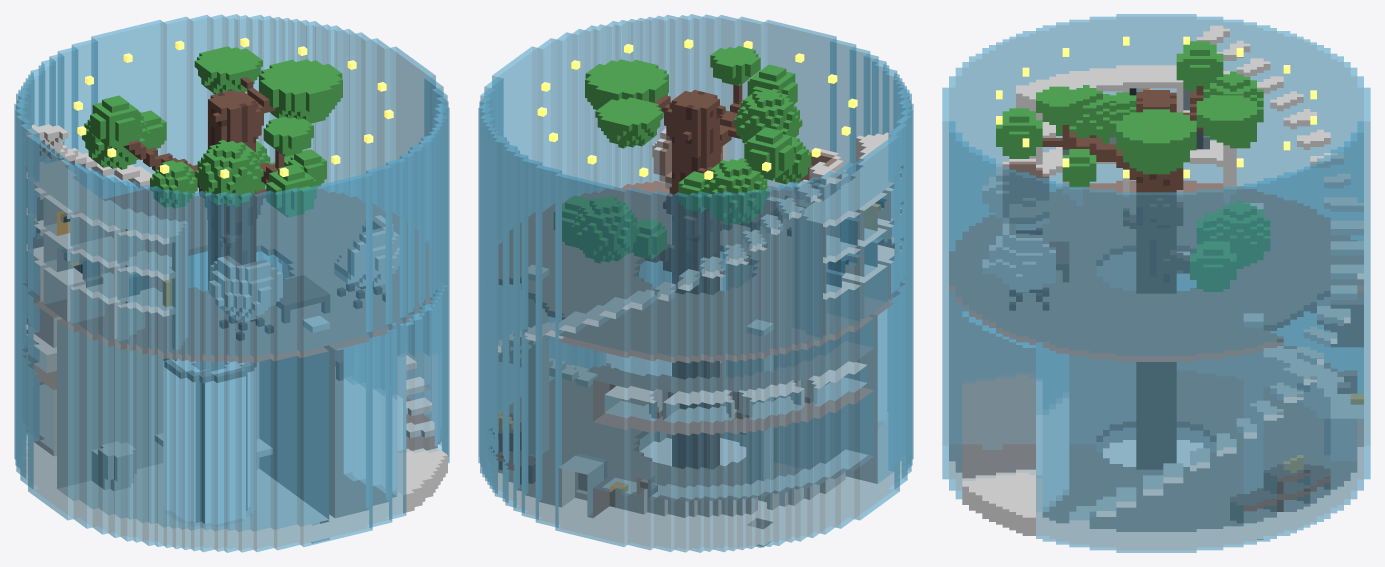
File: room7-transformed.glb
3 renders of one model, left to right at view 1: azimuth 30°, elevation 25°; view 2: azimuth 150°, elevation 25°; view 3: azimuth 270°, elevation 25°, orthographic.
Parts seen in each view (by area): view 1: Object_3; view 2: Object_3; view 3: Object_3.
Part boxes in pixels (x1,y1,x2,y2): Object_3: (14,14,449,552); Object_3: (478,14,913,552); Object_3: (942,14,1370,552).
Size of the model in its own units: 148 by 148 by 148.
1 material, 1 textured.
